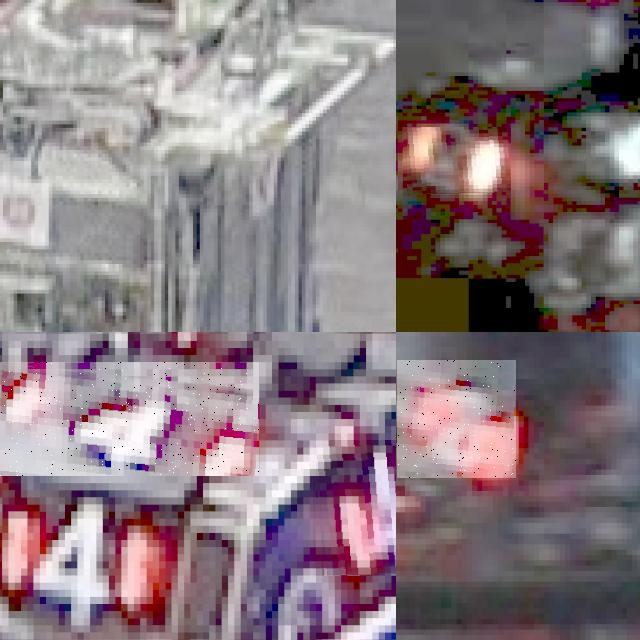R2: (397, 360, 516, 478)
R4: (0, 362, 259, 476), (0, 486, 171, 636), (313, 440, 396, 575)
Rs: (403, 128, 511, 198)
